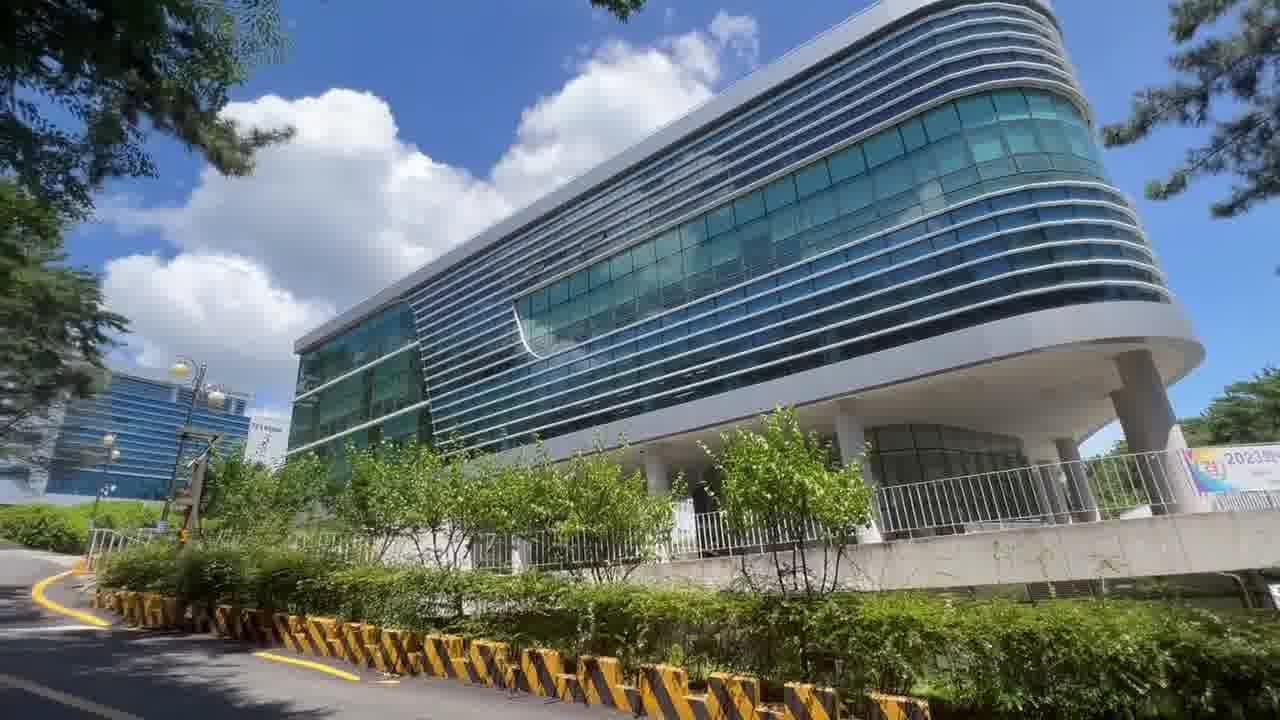building: (312, 13, 1104, 421)
